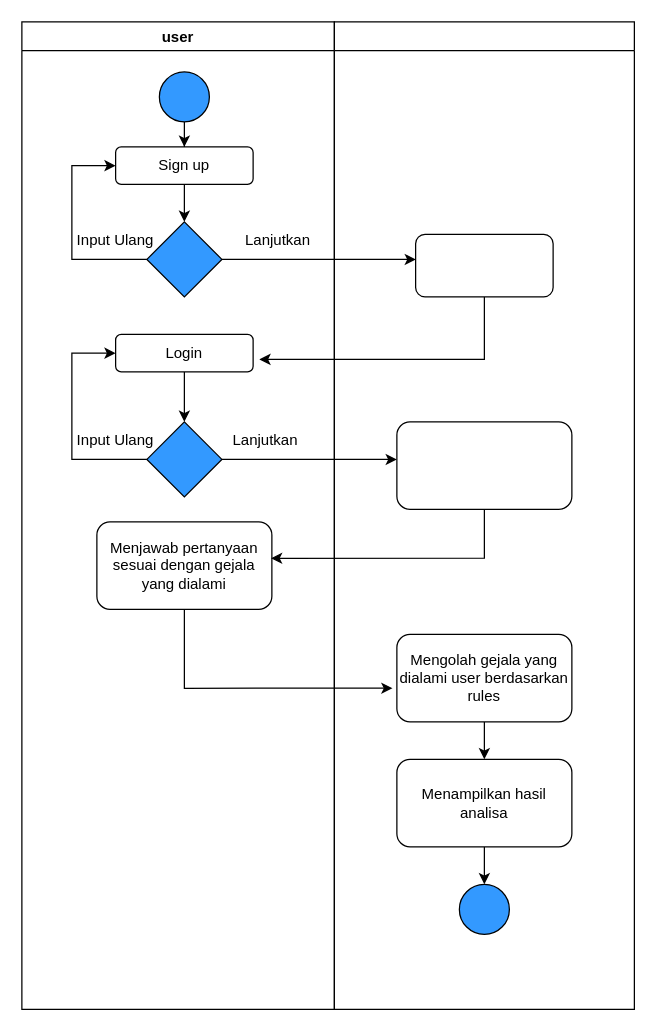
Some shapes in this 656 by 1031 pixel diagram are drawn without their labels. The shapes that lost their labels are listed below. From the top down, each one's box as (x1, y1, x2, y2) in pixels, then its label:
(414, 233, 553, 297): Data pasien disimpan pada database
(396, 421, 572, 509): Menampilkan beberapa pertanyaan (gejala)
(333, 21, 634, 1009): sistem
